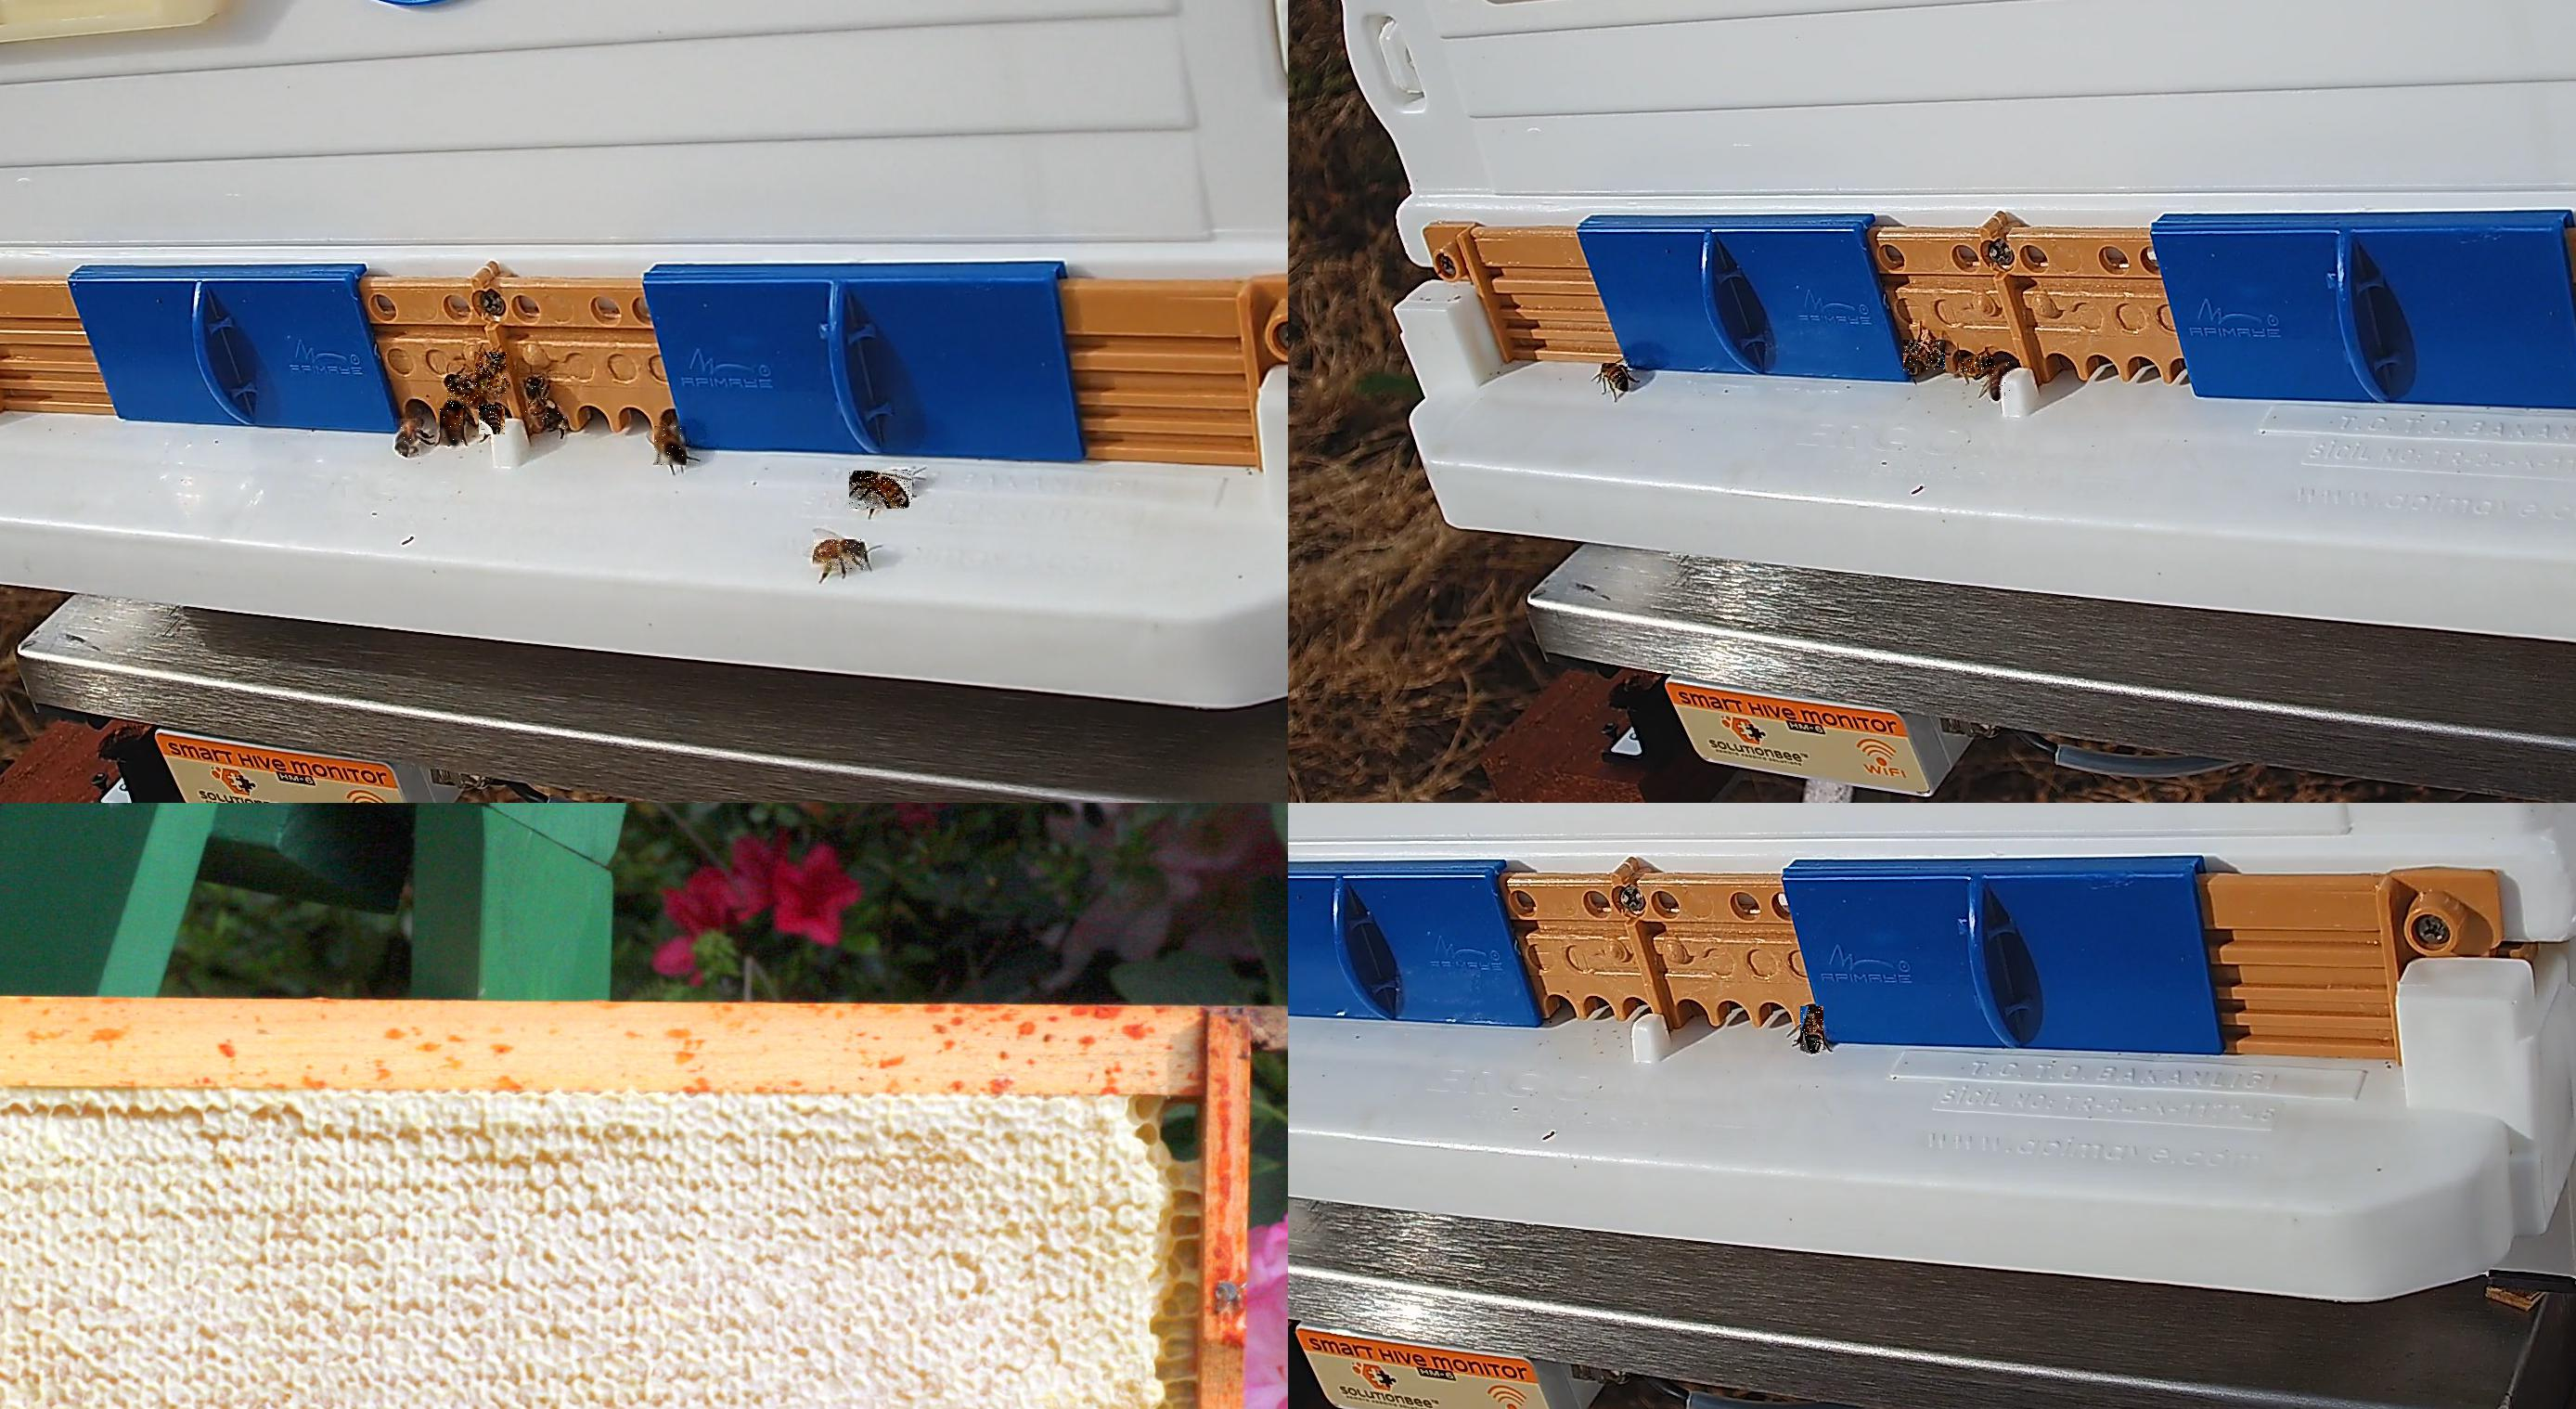bee: (849, 471, 913, 510), (814, 540, 866, 571), (1903, 341, 1946, 372), (654, 426, 687, 466), (1800, 1006, 1824, 1054), (1987, 359, 2016, 399), (395, 419, 422, 456), (440, 408, 464, 446), (1958, 355, 1994, 374), (1602, 364, 1629, 389)
pollenbee: (475, 353, 510, 398), (447, 375, 488, 410), (523, 376, 553, 423), (479, 406, 506, 435), (547, 408, 569, 429)
